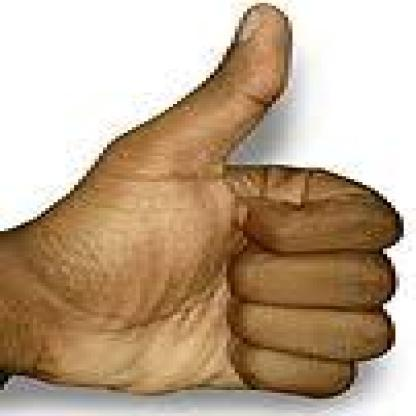thumb_up: (70, 4, 402, 399)
